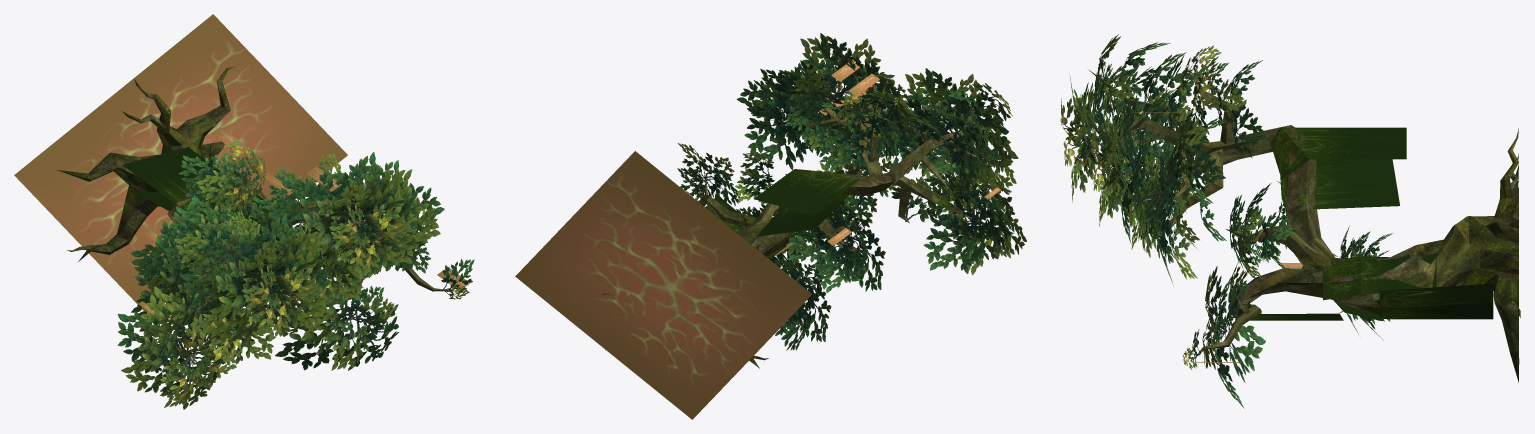
Rendered from jingling_02_tree_01.obj.
3 views of the same model, side by side, from view 1: azimuth 30°, elevation 25°; view 2: azimuth 150°, elevation 25°; view 3: azimuth 270°, elevation 25° (orthographic). The views are drawn at different scales.
Parts seen in each view (by area): view 1: jingling_02_tree_01, Object04, Object10, Object05, Object02, Object06, Object03, Object08, Object07; view 2: jingling_02_tree_01, Object10, Object03, Object08, Object06, Object04, Object01, Object05, Object07, Object02; view 3: jingling_02_tree_01, Object03, Object04, Object02, Object05, Object06, Object09, Object07, Object01, Object10.
Boxes of the visible parts, x1,y1,x2,y2 form: jingling_02_tree_01: (14,14,474,364); Object04: (268,152,416,281); Object10: (117,281,247,409); Object05: (198,231,326,344); Object02: (275,278,398,370); Object06: (174,213,301,320); Object03: (318,158,444,277); Object08: (131,222,237,321); Object07: (249,255,365,336); jingling_02_tree_01: (515,58,1000,419); Object10: (923,141,1026,275); Object03: (736,60,854,169); Object08: (811,199,885,292); Object06: (907,68,1012,164); Object04: (800,33,912,127); Object01: (775,259,831,350); Object05: (905,71,1018,173); Object07: (816,142,896,228); Object02: (736,203,819,276); jingling_02_tree_01: (1088,42,1520,382); Object03: (1121,126,1186,285); Object04: (1091,89,1146,226); Object02: (1202,266,1265,408); Object05: (1060,74,1103,202); Object06: (1092,34,1133,150); Object09: (1199,183,1270,278); Object07: (1131,171,1199,279); Object01: (1339,226,1393,340); Object10: (1113,100,1192,258).
Bounding box in the file's own units: 974 × 684 × 898.
6 materials, 6 textured.
